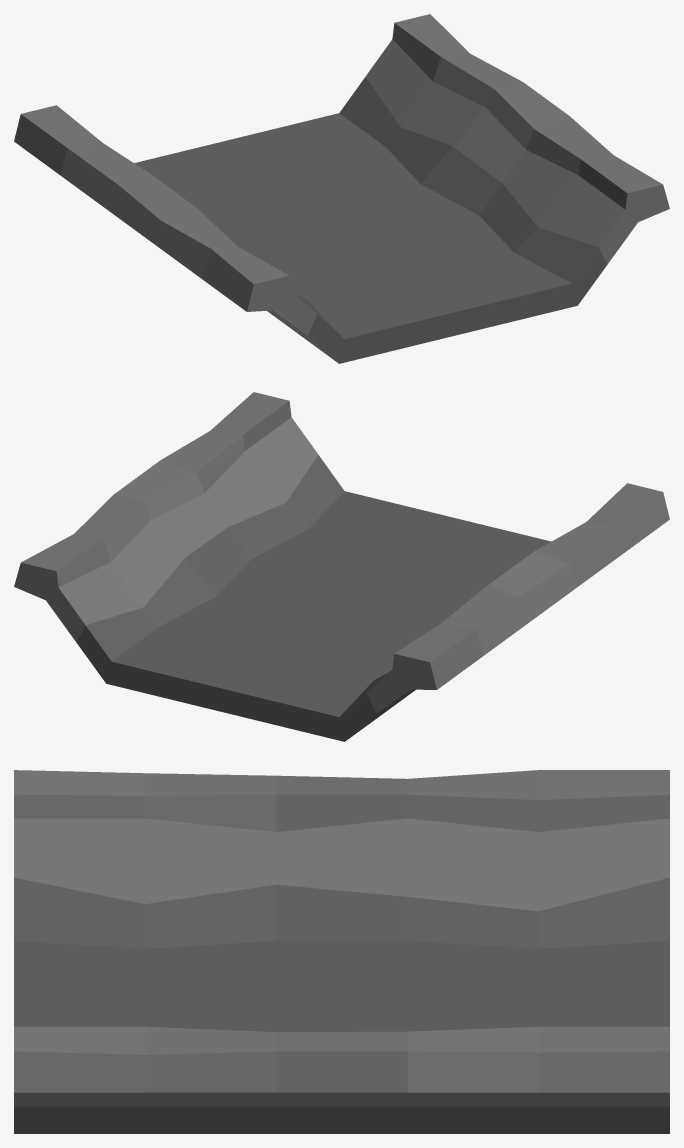
The model's file is SM_Env_Sewer_Canal_01.FBX.
3 renders of one model, top to bottom at view 1: azimuth 30°, elevation 25°; view 2: azimuth 150°, elevation 25°; view 3: azimuth 270°, elevation 25°, orthographic. The views are drawn at different scales.
Parts seen in each view (by area): view 1: SM_Env_Sewer_Canal_01; view 2: SM_Env_Sewer_Canal_01; view 3: SM_Env_Sewer_Canal_01.
Boxes of the visible parts, x1,y1,x2,y2 form: SM_Env_Sewer_Canal_01: [14, 14, 669, 363]; SM_Env_Sewer_Canal_01: [14, 392, 669, 741]; SM_Env_Sewer_Canal_01: [14, 770, 669, 1133].
Size of what is drawn, in the model's own units: 524 by 500 by 119.
